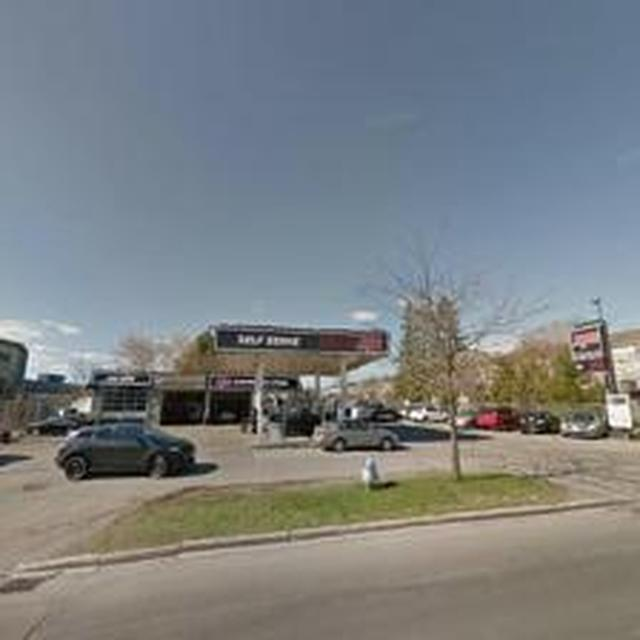building: (89, 322, 389, 442)
